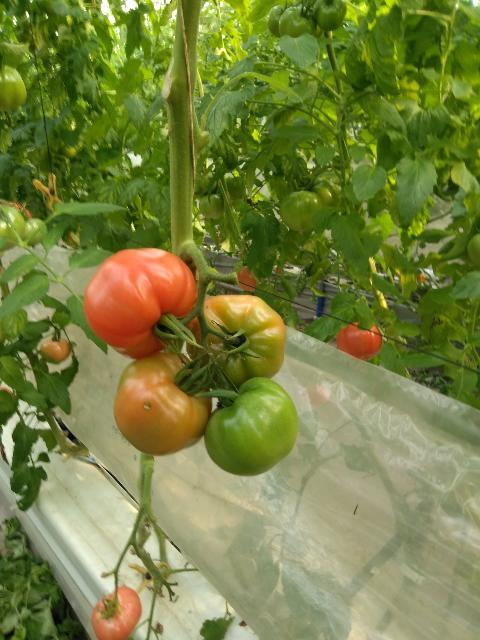b_fully_ripened: (83, 247, 201, 360), (336, 322, 382, 361)
b_green: (204, 377, 299, 477), (279, 191, 323, 231), (0, 63, 27, 111), (0, 205, 26, 252), (308, 176, 340, 207), (279, 13, 314, 41), (18, 218, 47, 247), (199, 194, 224, 219), (315, 13, 346, 31), (266, 13, 283, 38)
b_half_ripened: (113, 352, 213, 457), (186, 294, 287, 393), (91, 586, 143, 640), (39, 336, 71, 365), (237, 266, 264, 291)
